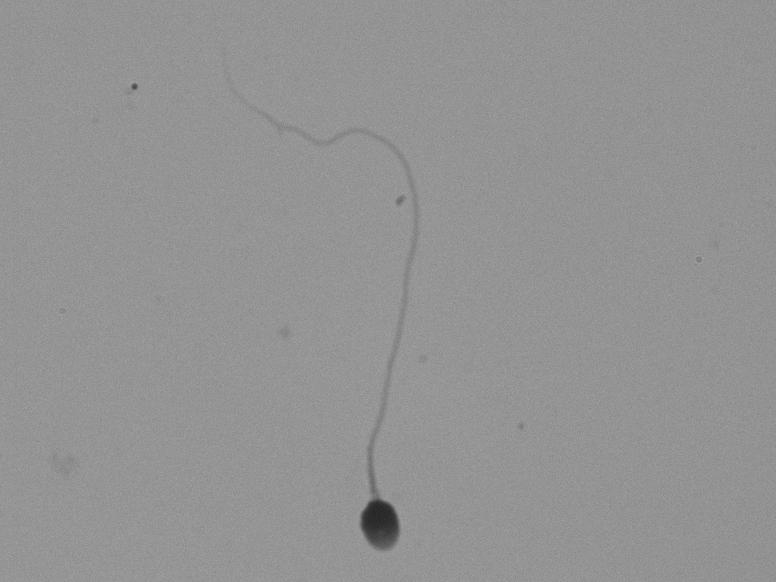Normal: (206, 86, 484, 562)
